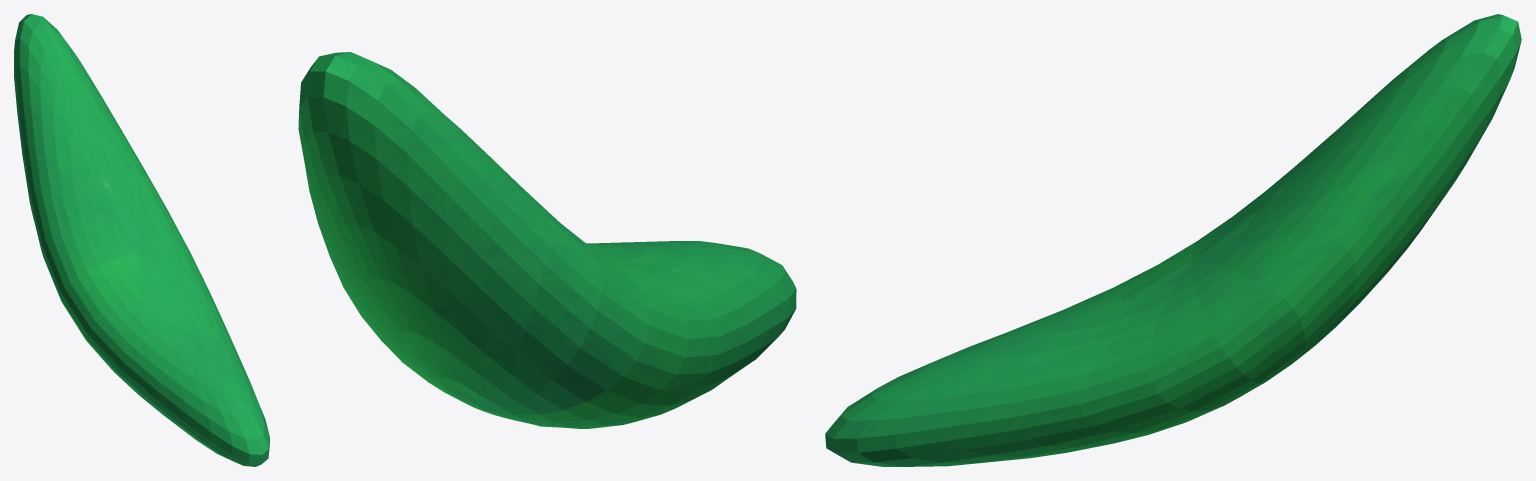
File: sniperCBullet.obj
3 views of the same model, side by side, from view 1: azimuth 30°, elevation 25°; view 2: azimuth 150°, elevation 25°; view 3: azimuth 270°, elevation 25° (orthographic). The views are drawn at different scales.
Parts seen in each view (by area): view 1: 球; view 2: 球; view 3: 球.
Boxes of the visible parts, bbox=[...] form: 球: bbox=[14, 14, 269, 466]; 球: bbox=[298, 52, 796, 428]; 球: bbox=[825, 14, 1521, 466].
Size of the model in its own units: 0.1565 by 0.3444 by 0.4892.
1 material, 1 textured.
